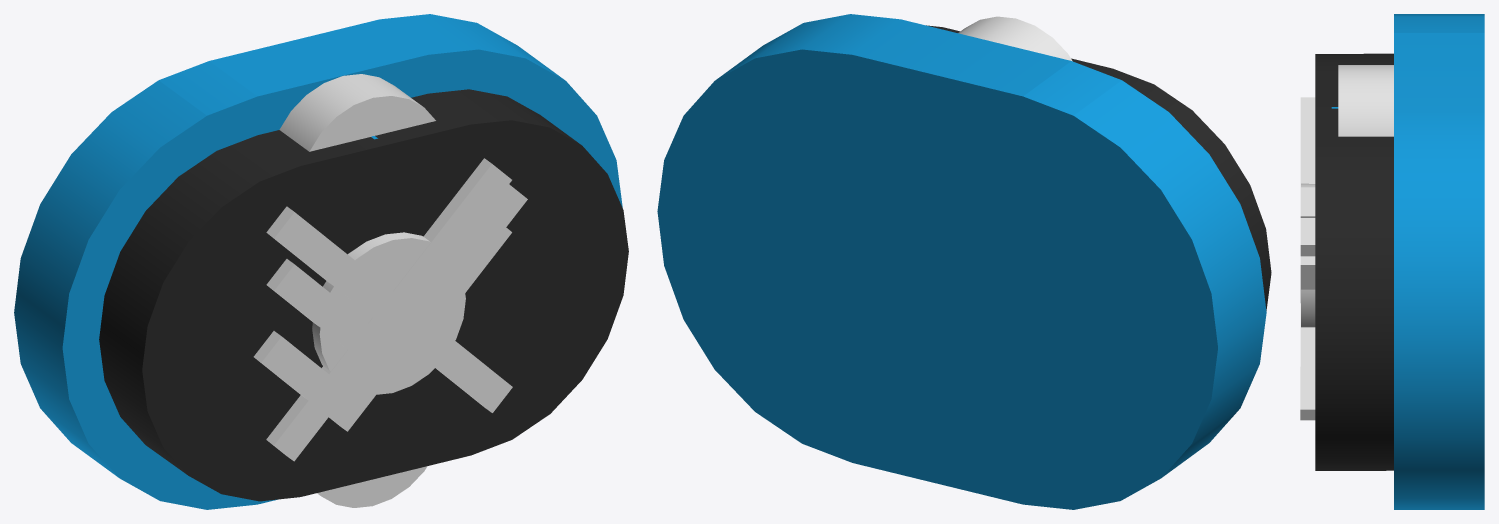
File: InteractableAssets.FBX
3 renders of one model, left to right at view 1: azimuth 30°, elevation 25°; view 2: azimuth 150°, elevation 25°; view 3: azimuth 270°, elevation 25°, orthographic. The views are drawn at different scales.
Parts seen in each view (by area): view 1: ToggleButton, ToggleOutline, CheckBoxX, CheckBoxCheck, SliderKnob, Arrow, RadialDot; view 2: ToggleOutline, ToggleButton, SliderKnob; view 3: ToggleOutline, ToggleButton, SliderKnob, CheckBoxX, RadialDot, CheckBoxCheck, Arrow.
Boxes of the visible parts, x1=… form: ToggleButton: x1=99, y1=89, x2=628, y2=501; ToggleOutline: x1=14, y1=14, x2=622, y2=509; CheckBoxX: x1=266, y1=158, x2=512, y2=461; CheckBoxCheck: x1=253, y1=184, x2=527, y2=431; SliderKnob: x1=279, y1=74, x2=435, y2=507; Arrow: x1=266, y1=219, x2=511, y2=385; RadialDot: x1=312, y1=232, x2=465, y2=394; ToggleOutline: x1=657, y1=14, x2=1266, y2=509; ToggleButton: x1=926, y1=25, x2=1271, y2=310; SliderKnob: x1=958, y1=16, x2=1072, y2=61; ToggleOutline: x1=1394, y1=14, x2=1484, y2=509; ToggleButton: x1=1315, y1=53, x2=1393, y2=470; SliderKnob: x1=1338, y1=65, x2=1393, y2=136; CheckBoxX: x1=1300, y1=97, x2=1315, y2=420; RadialDot: x1=1301, y1=183, x2=1315, y2=327; CheckBoxCheck: x1=1300, y1=218, x2=1315, y2=256; Arrow: x1=1300, y1=256, x2=1315, y2=302.
Size of the model in its own units: 9.2 by 6.41 by 2.81.
